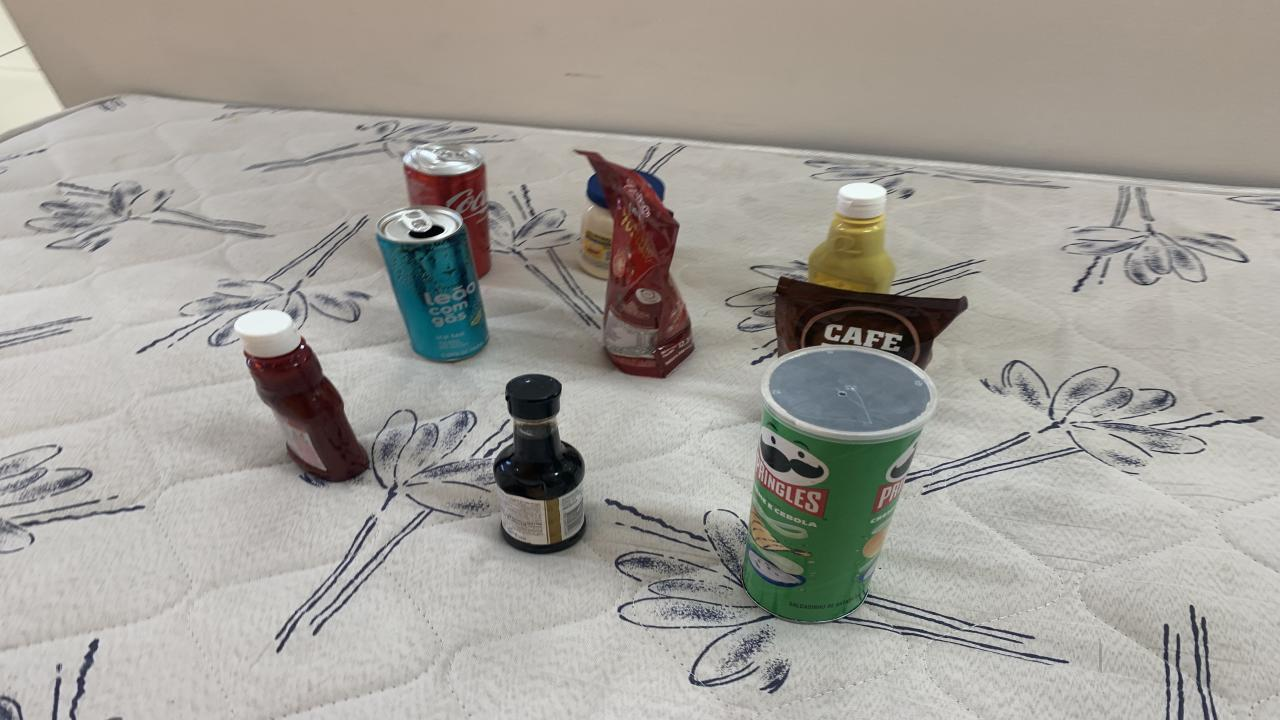Coffee-Pantry_Items: (775, 278, 968, 368)
Coke-Drinks: (402, 142, 490, 276)
English_Sauce-Pantry_Items: (495, 375, 585, 553)
Ketchup-Pantry_Items: (235, 309, 370, 482)
Mayonnaise-Pantry_Items: (580, 174, 612, 279), (640, 172, 665, 197)
Mustard-Pantry_Items: (808, 182, 895, 294)
Pringles-Snacks: (742, 345, 938, 622)
Tea-Drinks: (378, 206, 488, 362)
Tomato_Sauce-Pantry_Items: (578, 150, 695, 377)
